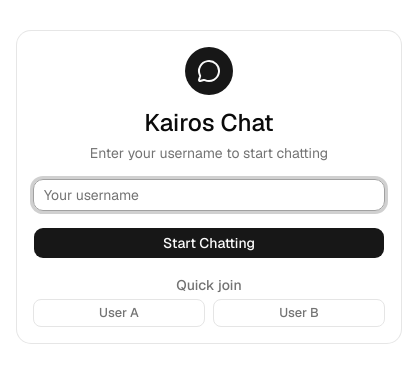
LoginForm › shows error when submitting with empty username
This screenshot has width=419, height=375.
Click the button with test id "login-submit".
click(209, 243)  # box [33,227,385,259]
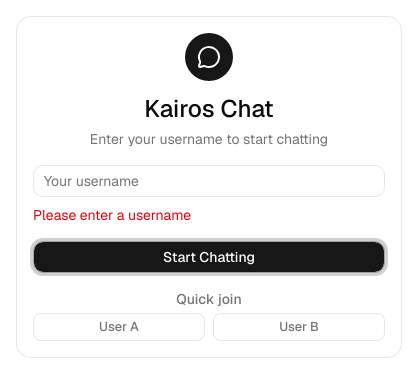
Check: the text "Please enter a username" is shown, box [33,206,191,224]
